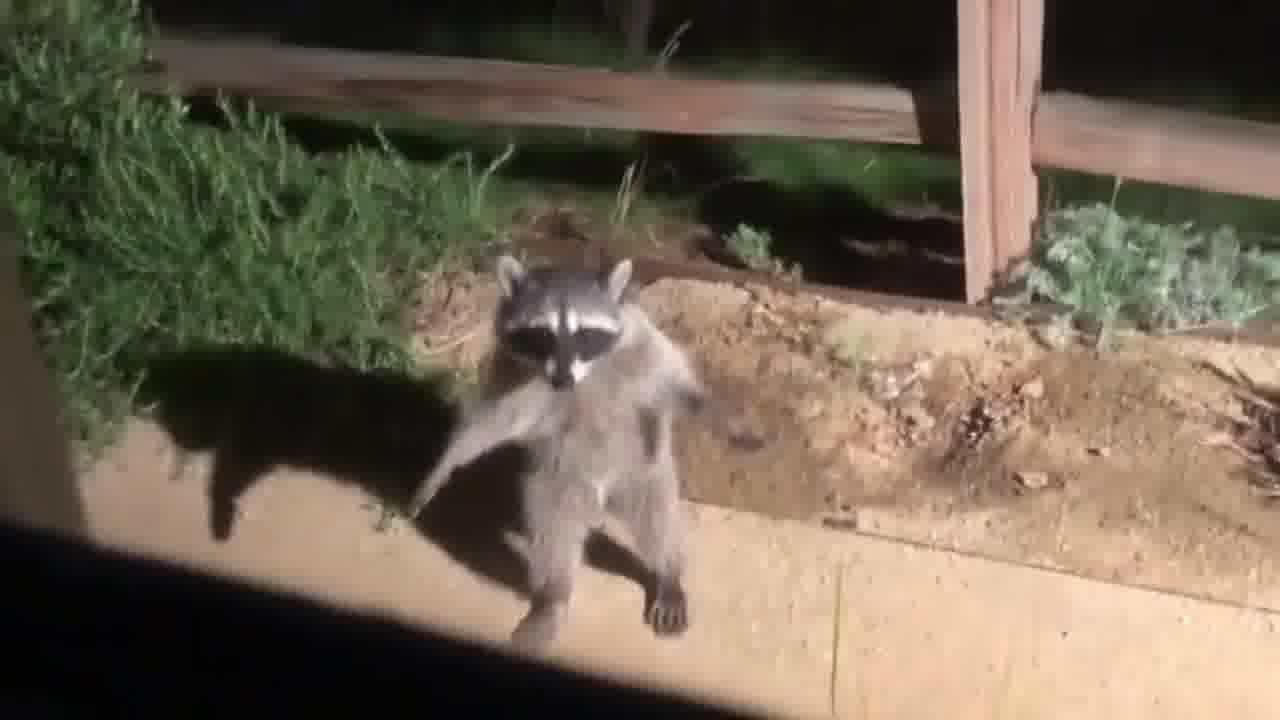raccoon: (399, 251, 779, 677)
